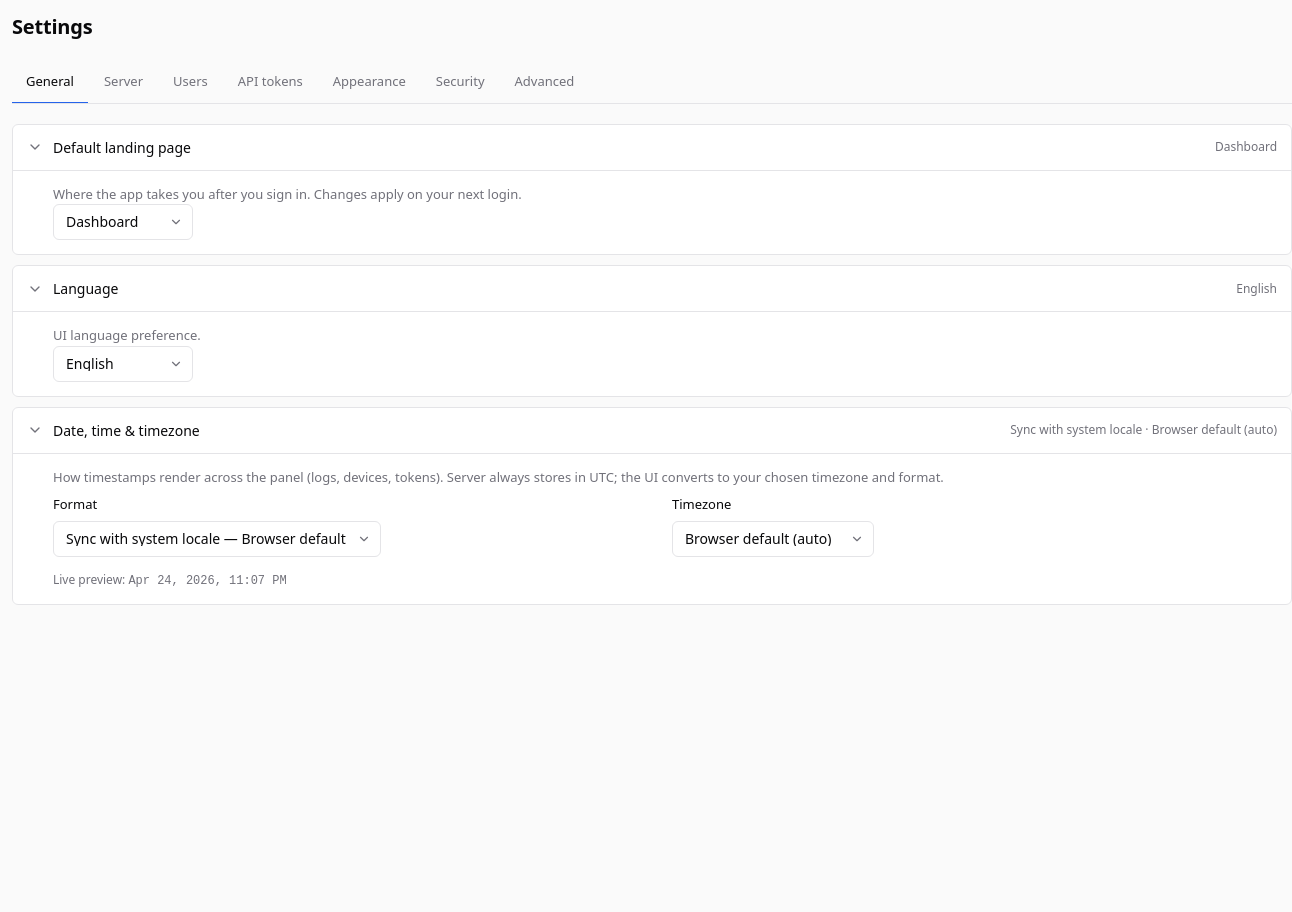
Test: <SettingsPage /> › switches to the Security tab when clicked and shows the password form
Click the tab "Security": (460,83) [422,62,499,104]
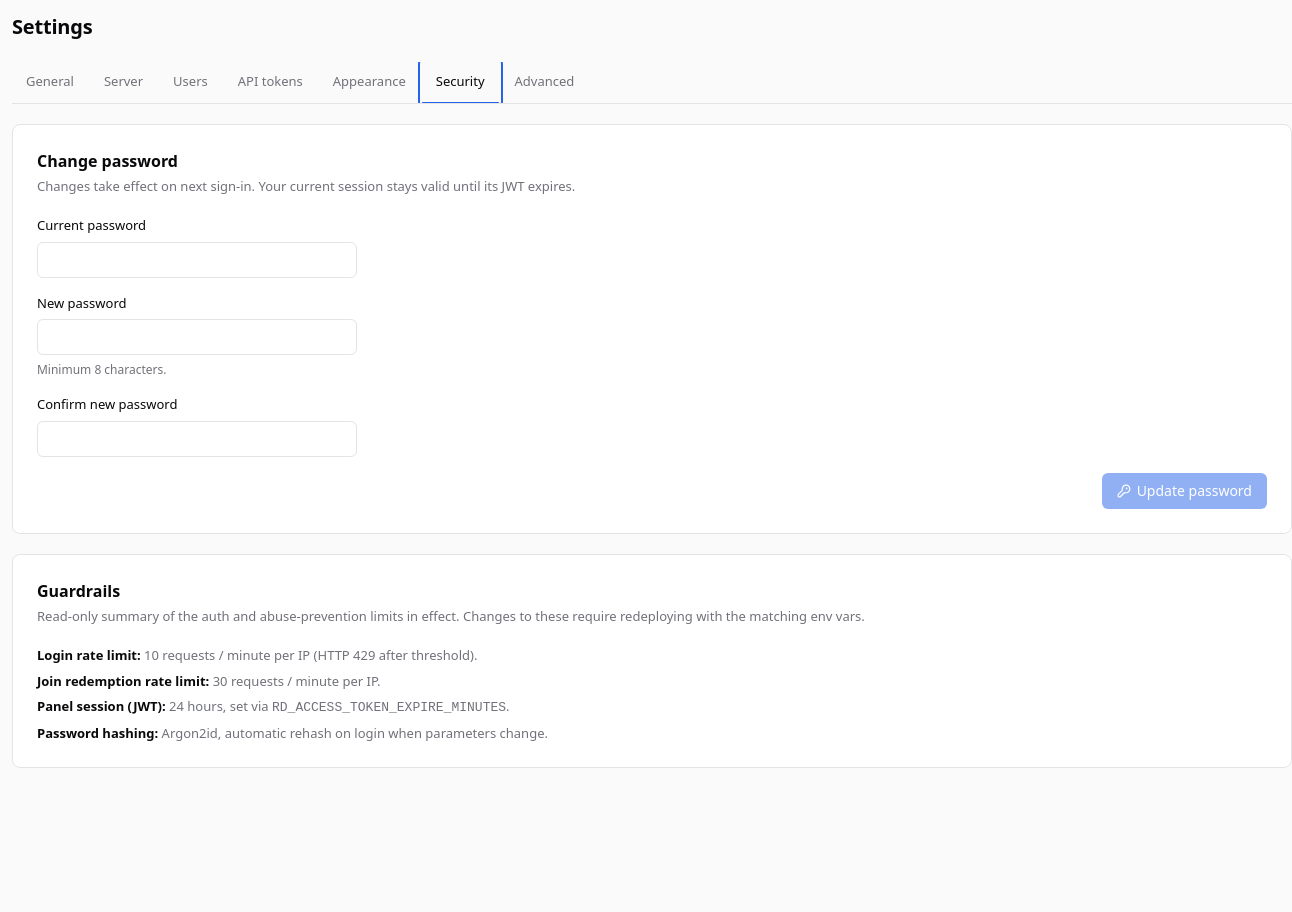
Now the password field labelled "Current password" is shown, box [37,242,357,278]
Now the password field labelled "New password" is shown, box [37,319,357,355]
